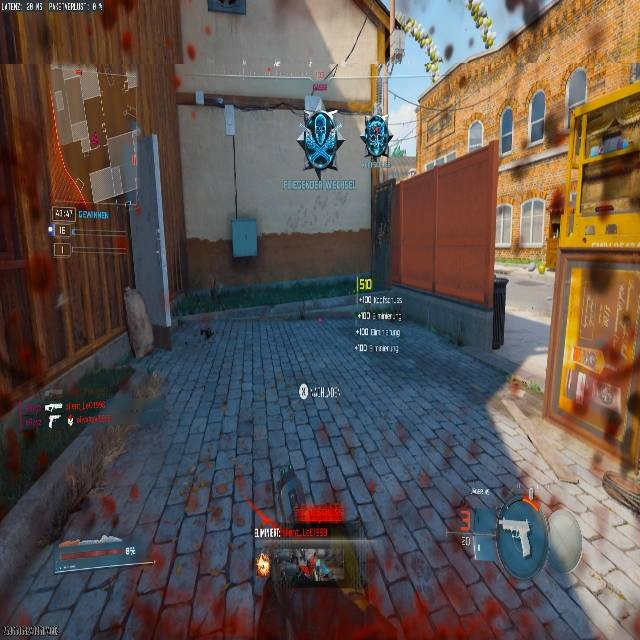player: (299, 107, 341, 176), (361, 113, 391, 164)
